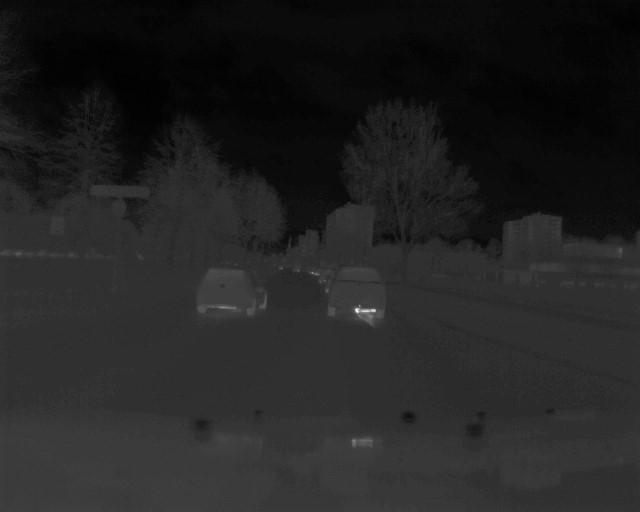car: (325, 260, 393, 322), (196, 264, 273, 317)
